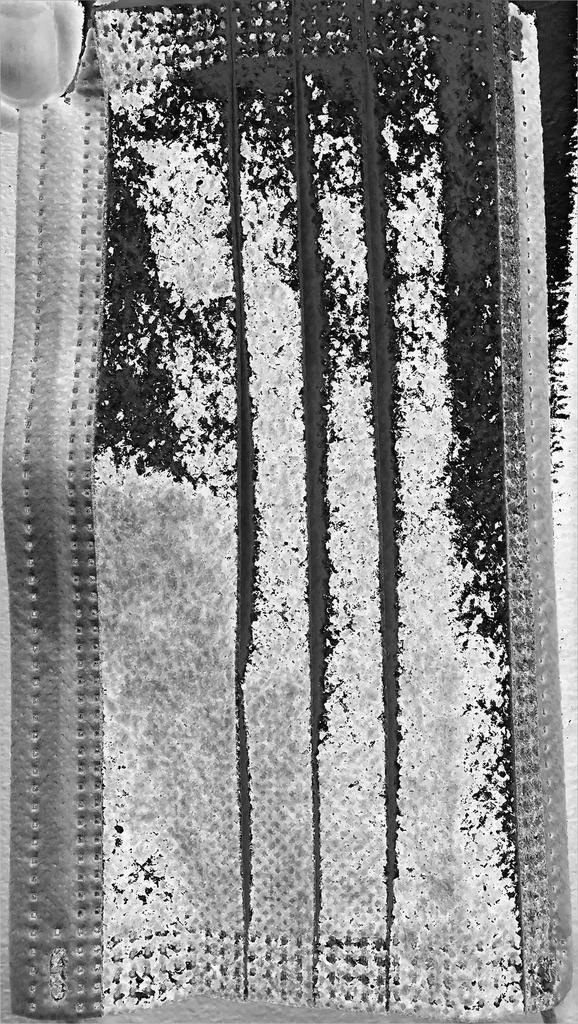High GSM: (88, 1, 536, 1017)
